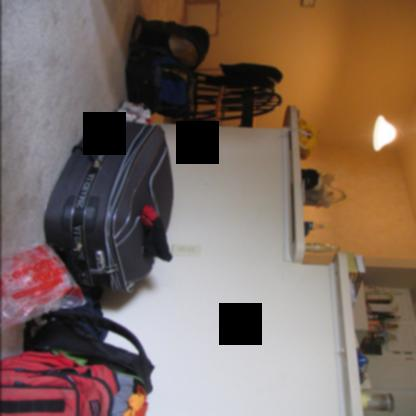backpack: (23, 311, 155, 394), (0, 351, 121, 416)
suitcase: (43, 114, 172, 293), (124, 40, 191, 120)
